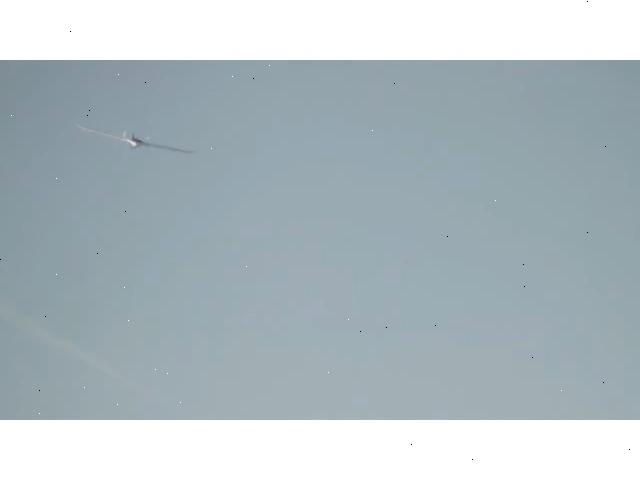Anti-Drone: (78, 124, 194, 154)
